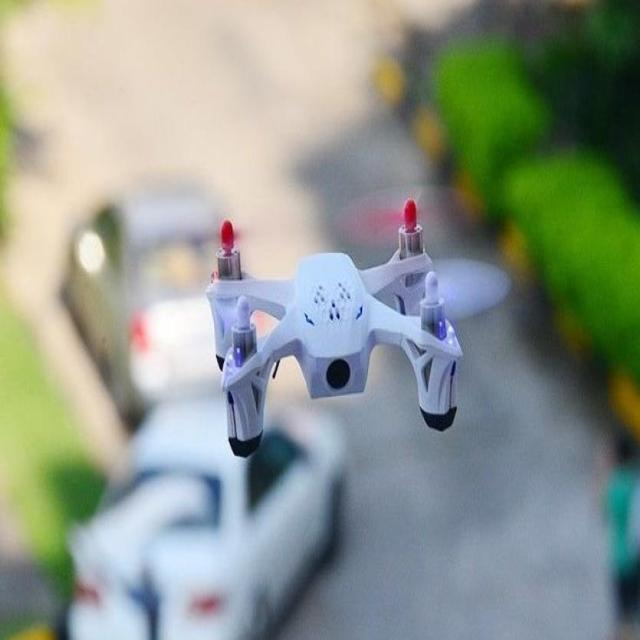drone: (200, 196, 498, 450)
